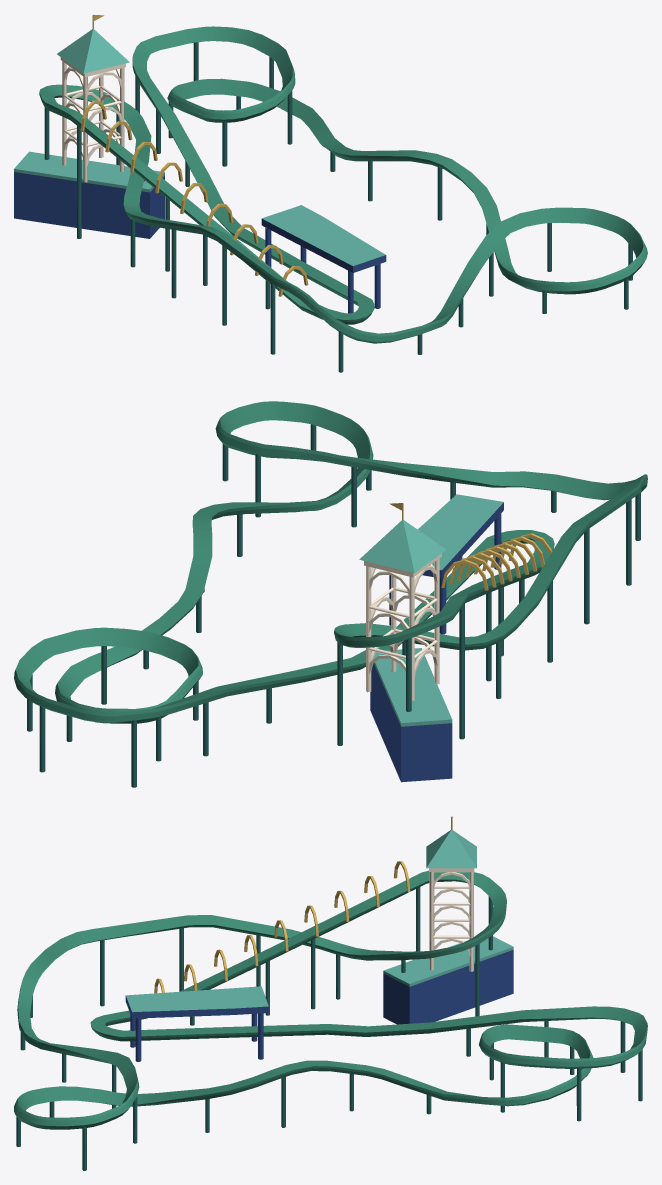
Rendered from nyc-tonys-express.glb.
3 views of the same model, one above another, from view 1: azimuth 30°, elevation 25°; view 2: azimuth 150°, elevation 25°; view 3: azimuth 270°, elevation 25° (orthographic). The views are drawn at different scales.
Visible parts, largest first — view 1: Tony's Express; view 2: Tony's Express; view 3: Tony's Express.
Boxes of the visible parts, x1,y1,x2,y2 form: Tony's Express: [14, 14, 647, 372]; Tony's Express: [14, 401, 647, 787]; Tony's Express: [14, 816, 647, 1170].
Size of the model in its own units: 55.85 by 27.12 by 79.76.
